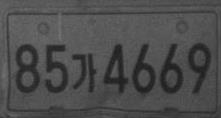4: (102, 43, 129, 94)
5: (44, 43, 69, 94)
6: (131, 43, 156, 94), (159, 43, 184, 94)
8: (14, 43, 40, 94)
9: (186, 42, 212, 93)
가: (72, 53, 96, 93)
